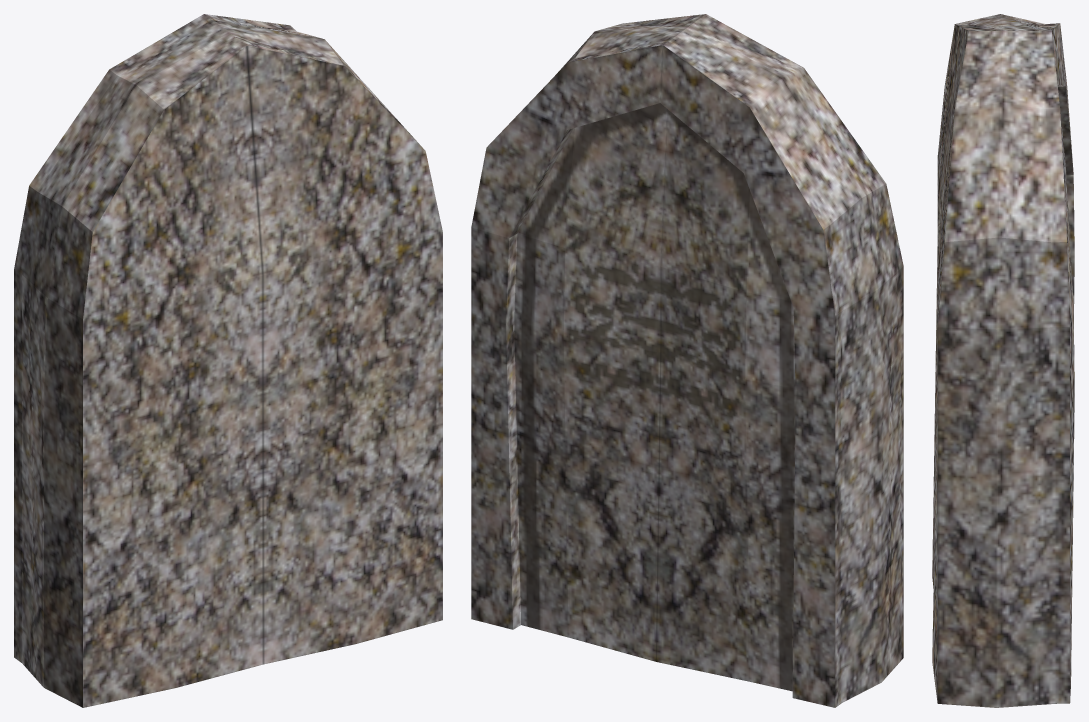
File: gravestone.glb
3 views of the same model, side by side, from view 1: azimuth 30°, elevation 25°; view 2: azimuth 150°, elevation 25°; view 3: azimuth 270°, elevation 25° (orthographic). The views are drawn at different scales.
Visible parts, largest first — view 1: gravestone; view 2: gravestone; view 3: gravestone.
Boxes of the visible parts, box(x1,y1,x2,y2) form: gravestone: box(14, 14, 442, 707); gravestone: box(471, 14, 903, 707); gravestone: box(932, 14, 1074, 707).
Size of the model in its own units: 1.3 by 2 by 0.4395.
1 material, 1 textured.
